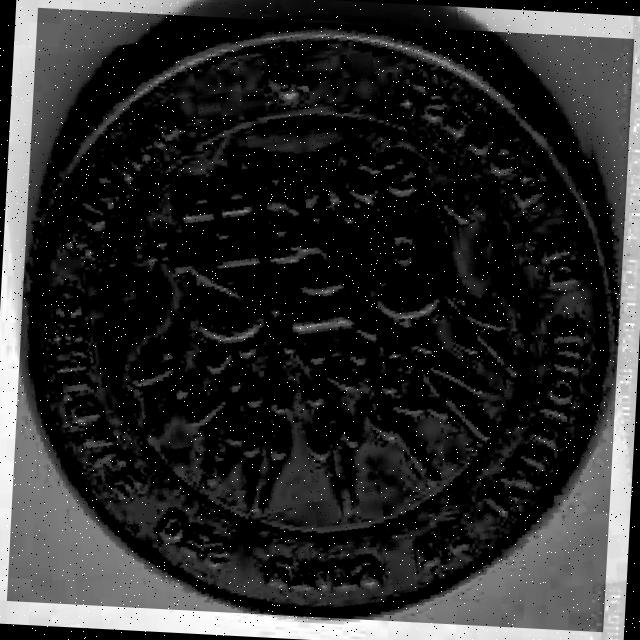juroom fukk: (24, 24, 617, 615)
